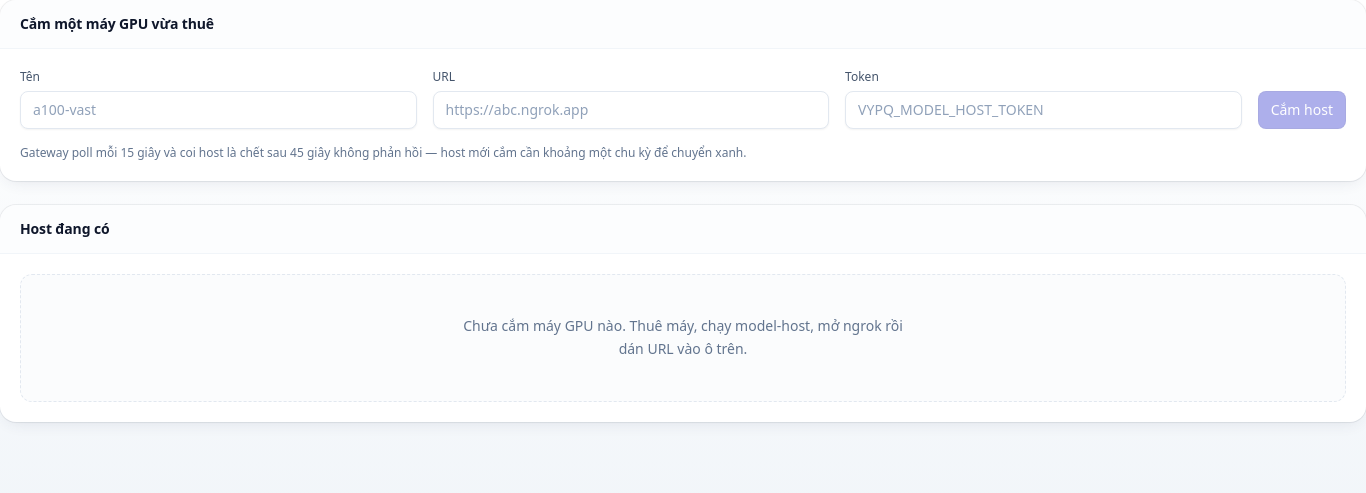
Test: HostsPanel › hiện thông điệp lỗi của server thay vì im lặng
Type "x" into the field labelled "Tên".
click(218, 110); type("x")  # box [20, 91, 416, 129]
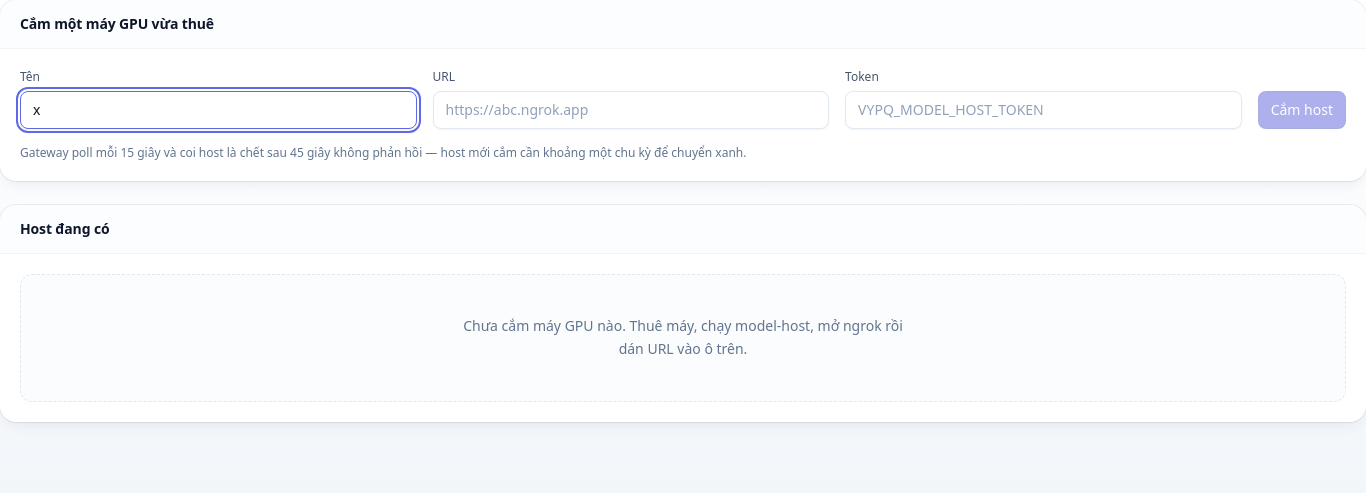
Type "ftp://x" into the field labelled "URL".
click(631, 110); type("ftp://x")  # box [432, 91, 829, 129]
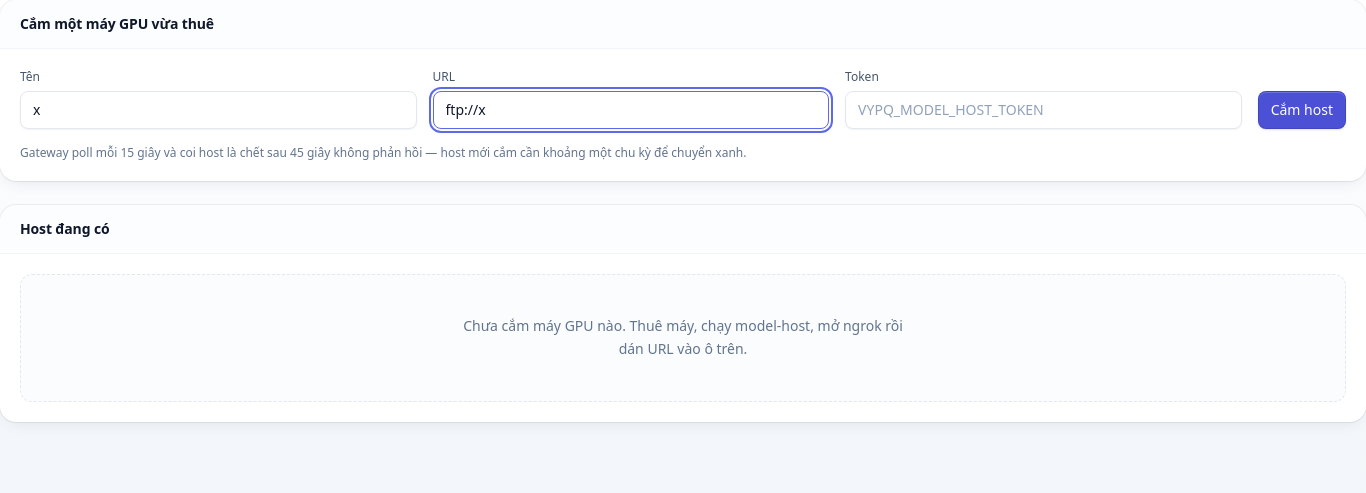
Click the button "Cắm host".
click(1302, 110)  # box [1258, 91, 1346, 129]
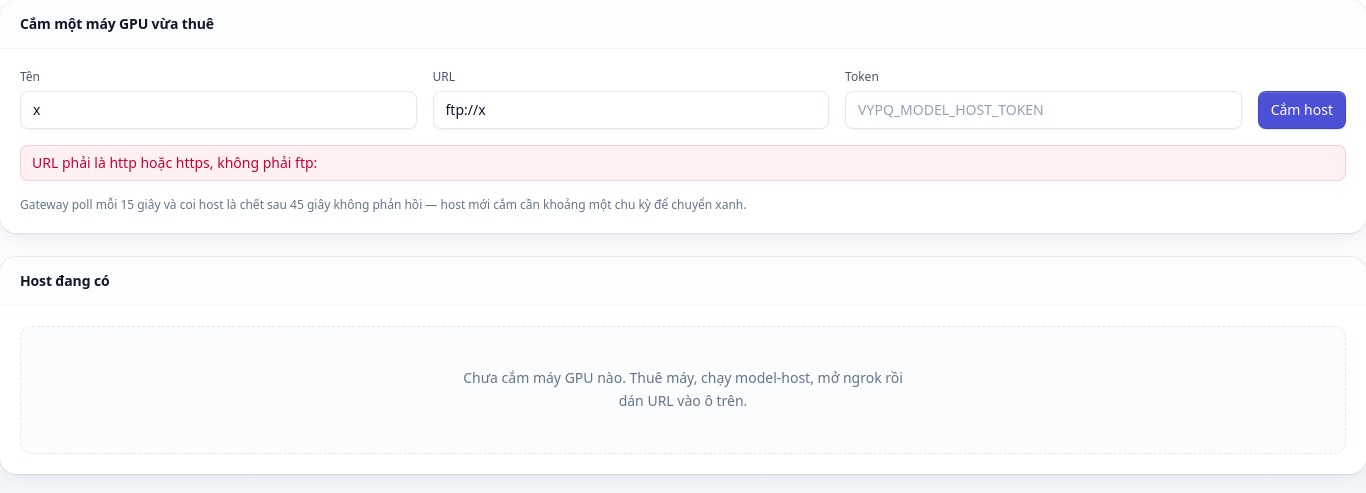
expect the message shows "URL phải là http hoặc https": met, box [32, 153, 317, 172]
